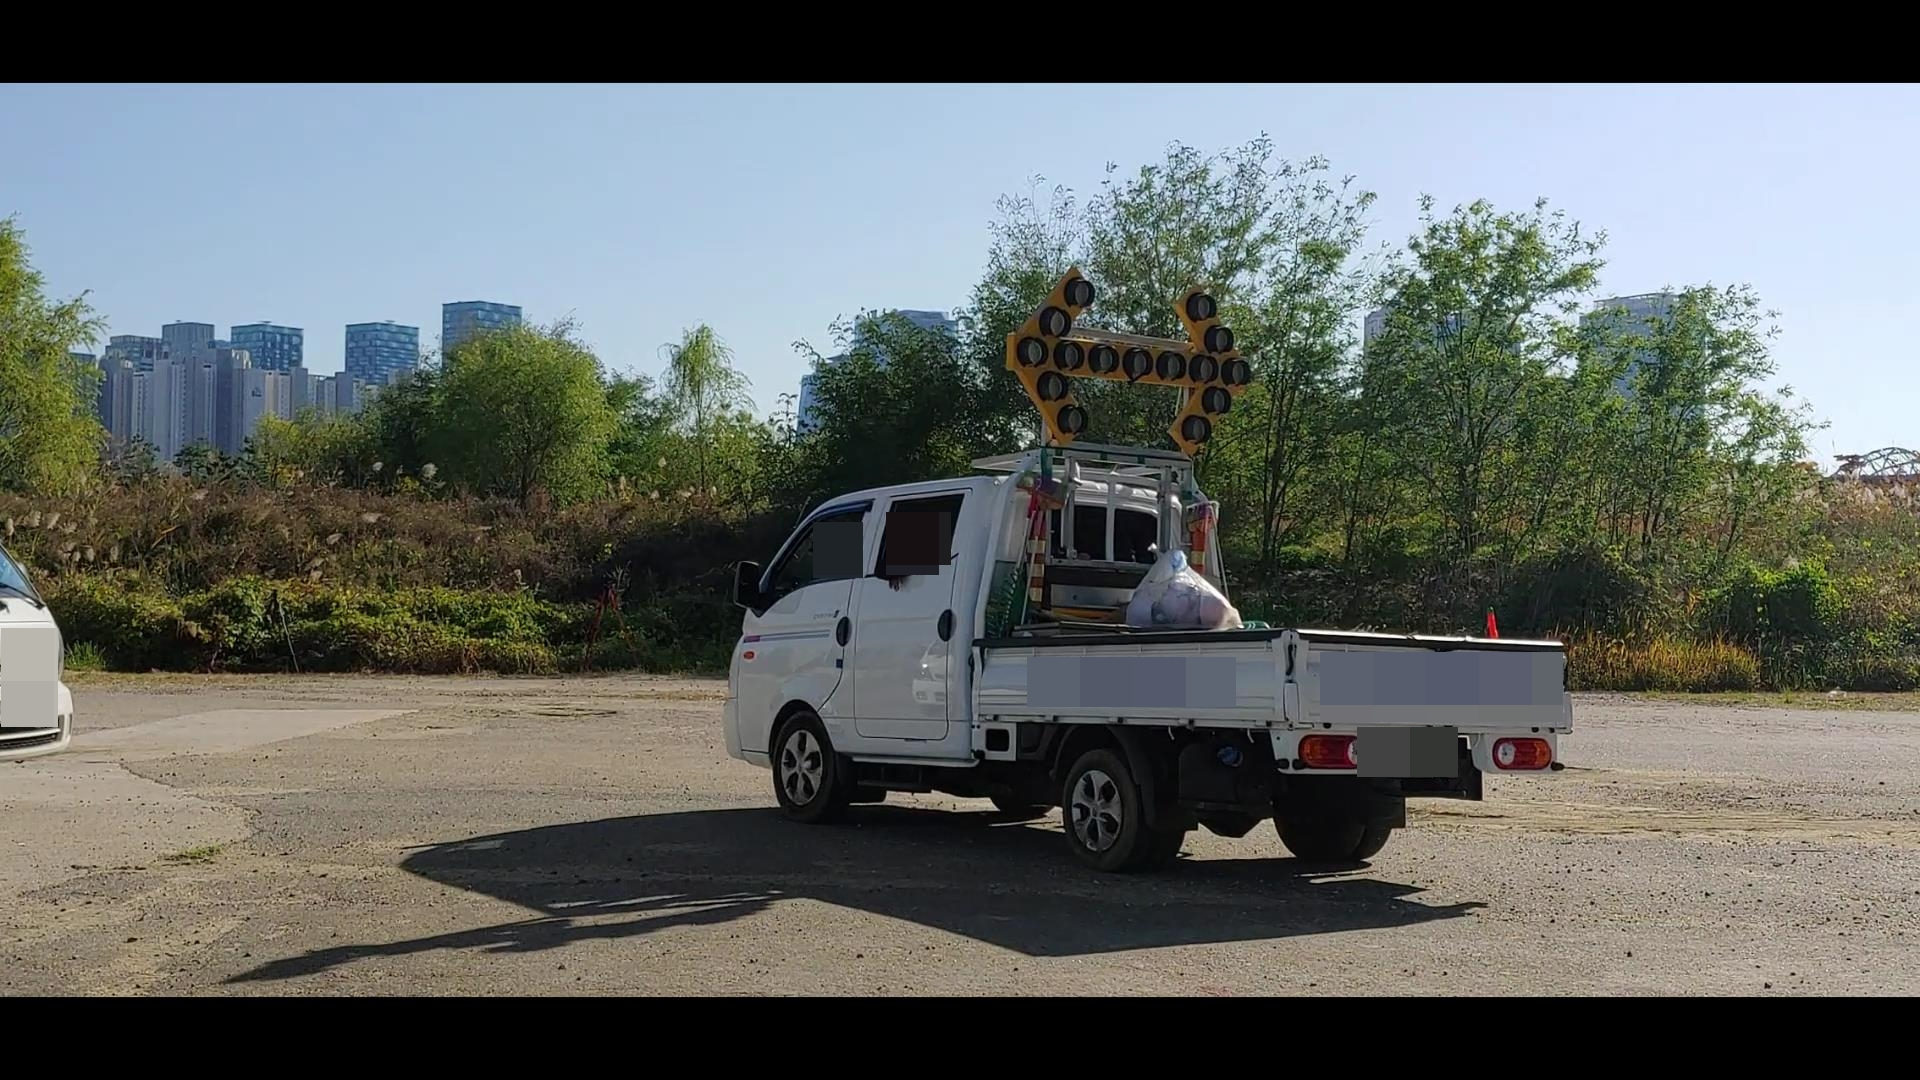불법차량: (723, 266, 1574, 873)
